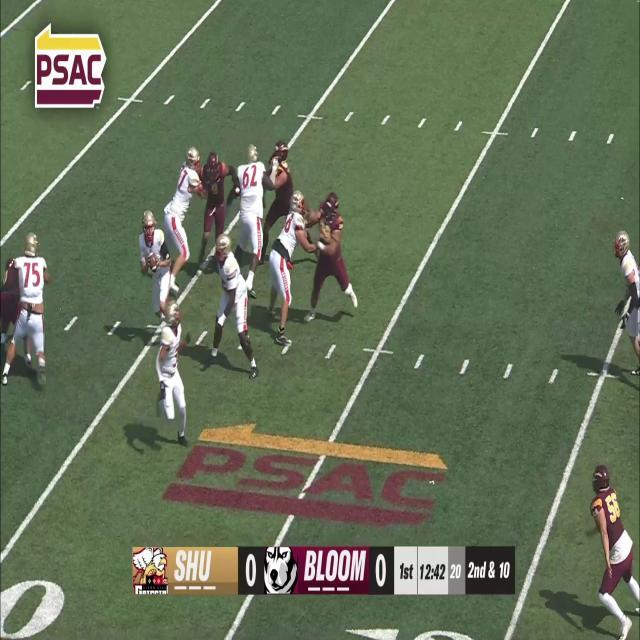football: (148, 250, 160, 272)
